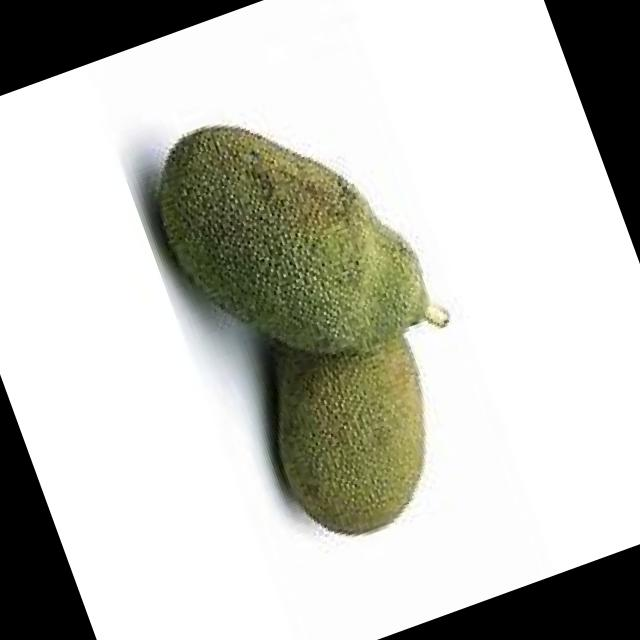Fruit: (122, 62, 462, 424), (232, 314, 478, 569)
